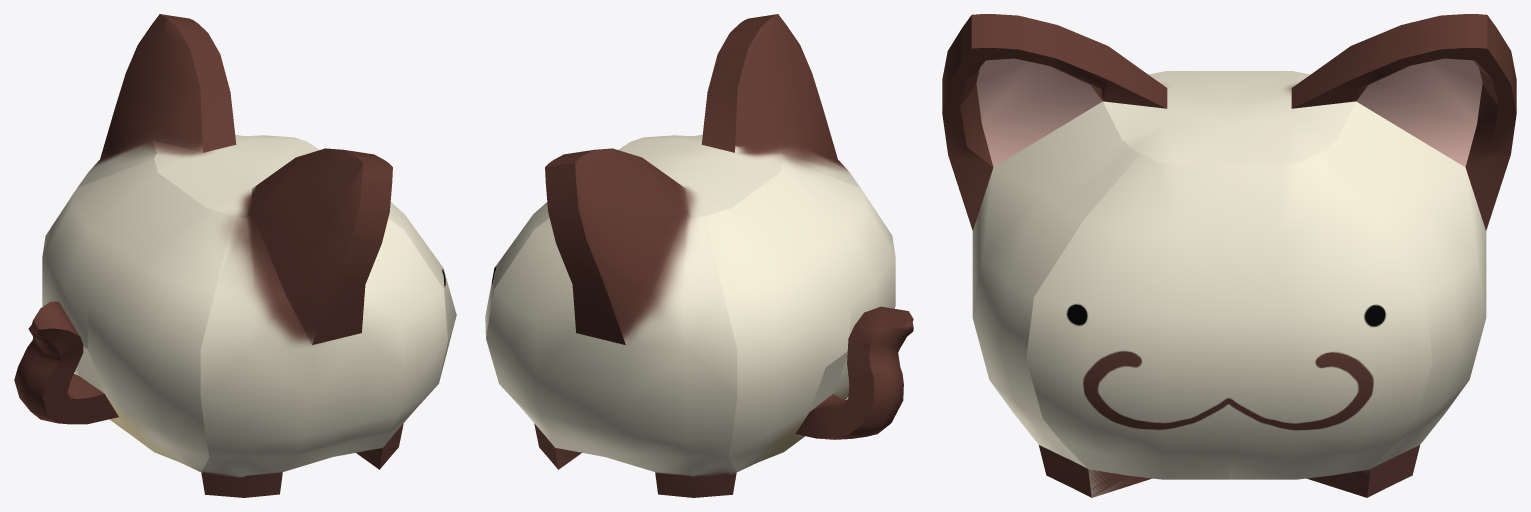
File: CatModel.fbx
The picture shows the model from 3 angles, left to right: view 1: azimuth 30°, elevation 25°; view 2: azimuth 150°, elevation 25°; view 3: azimuth 270°, elevation 25°; orthographic projection. The views are drawn at different scales.
Parts seen in each view (by area): view 1: pCube7; view 2: pCube7; view 3: pCube7.
Boxes of the visible parts, x1=… form: pCube7: x1=14, y1=14, x2=456, y2=497; pCube7: x1=485, y1=14, x2=913, y2=497; pCube7: x1=942, y1=14, x2=1516, y2=497.
Size of the model in its own units: 1.64 by 1.42 by 1.7.
